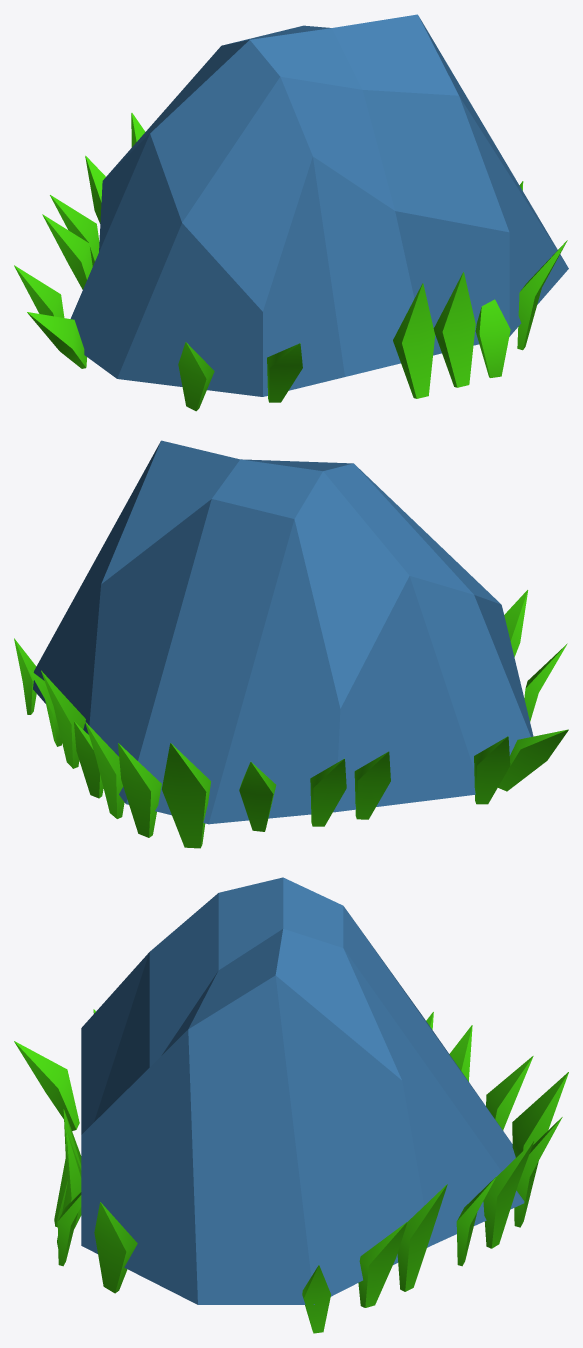
The model's file is Stone.fbx.
The picture shows the model from 3 angles, top to bottom: view 1: azimuth 30°, elevation 25°; view 2: azimuth 150°, elevation 25°; view 3: azimuth 270°, elevation 25°; orthographic projection. The views are drawn at different scales.
Visible parts, largest first — view 1: Box016; view 2: Box016; view 3: Box016.
Boxes of the visible parts, box(x1,y1,x2,y2) form: Box016: box(14, 14, 568, 411); Box016: box(14, 440, 568, 848); Box016: box(14, 877, 568, 1333).
Bounding box in the file's own units: 2.5 × 1.36 × 2.17.
